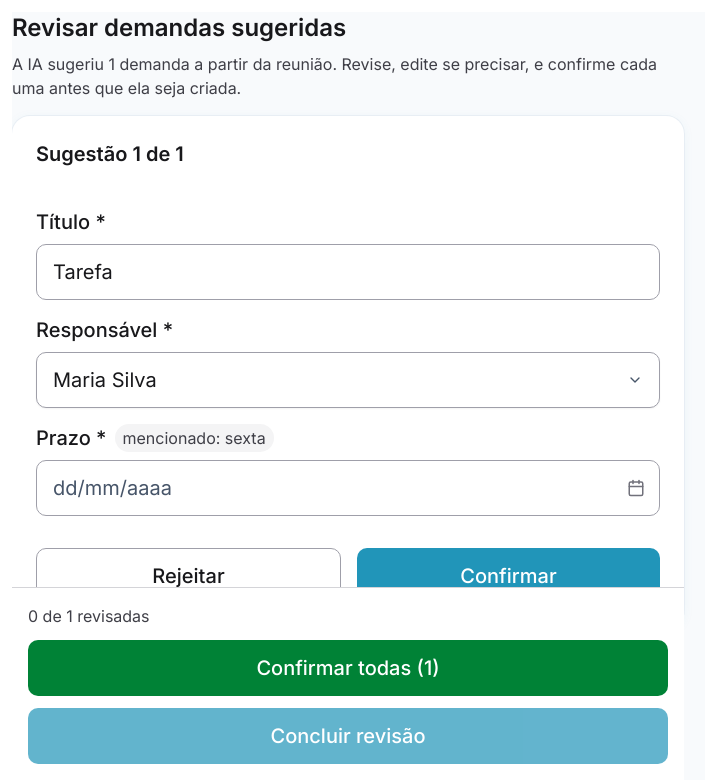
Test case: SuggestionReviewList › a FAILED Confirmar leaves the card editable (not Criada) and shows the failure message
This screenshot has width=705, height=780.
Type "01092026" into the field labelled "Prazo *". click: (348, 488)
box: left=36, top=460, right=660, bottom=516
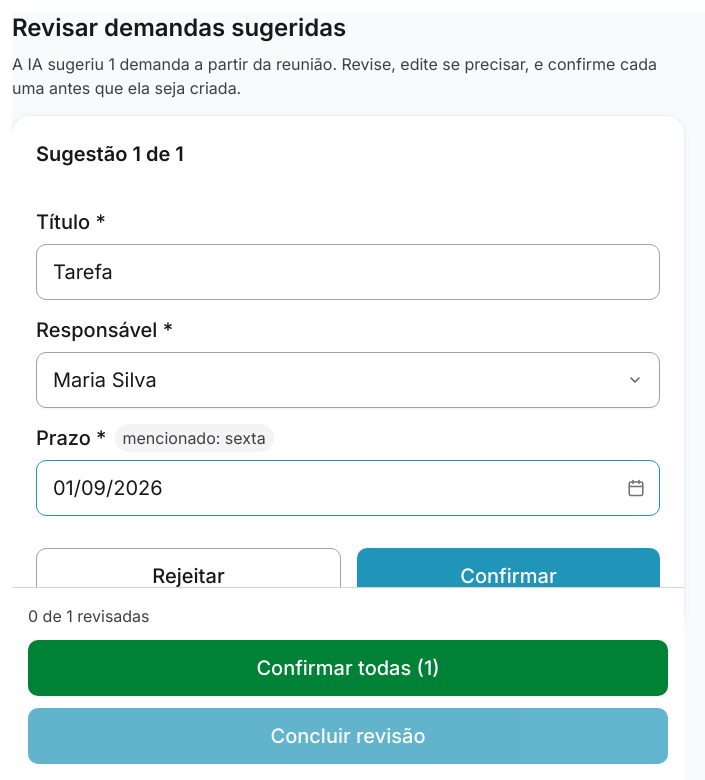
Click the button "Confirmar". click: (508, 576)
box: left=357, top=548, right=660, bottom=604
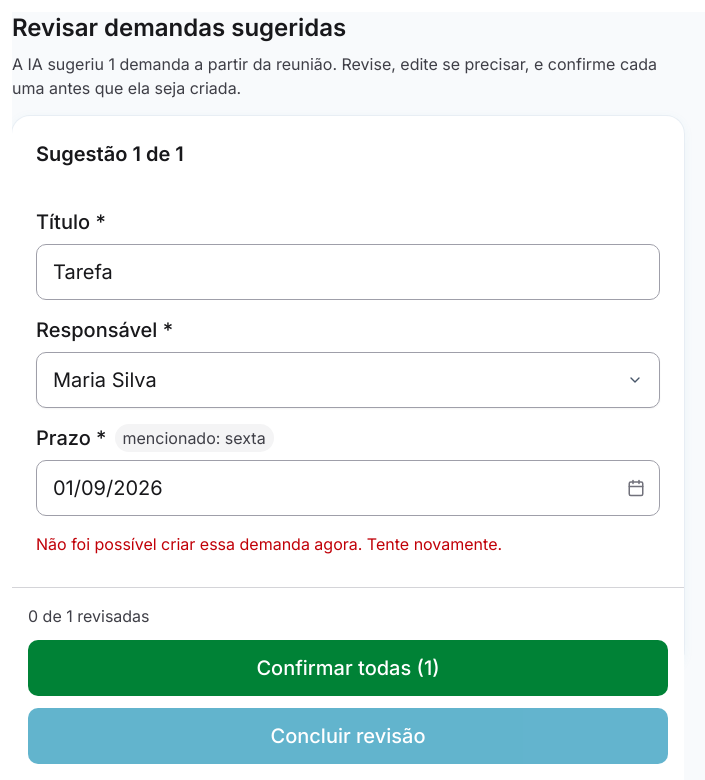
Expected: the field showing "Tarefa" is shown, left=36, top=244, right=660, bottom=300
Expected: the text "Não foi possível criar essa demanda agora. Tente novamente." is shown, left=36, top=534, right=502, bottom=554
